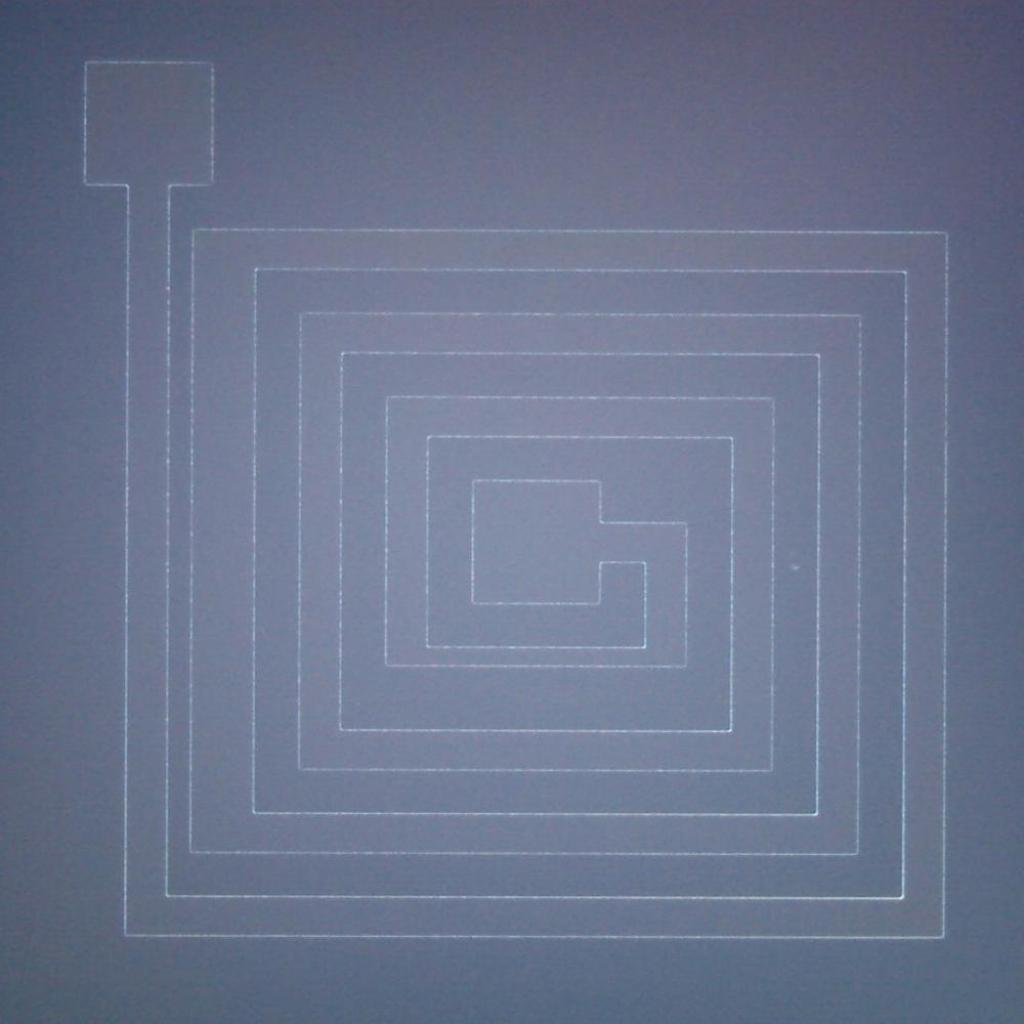dot: (791, 564, 799, 572)
